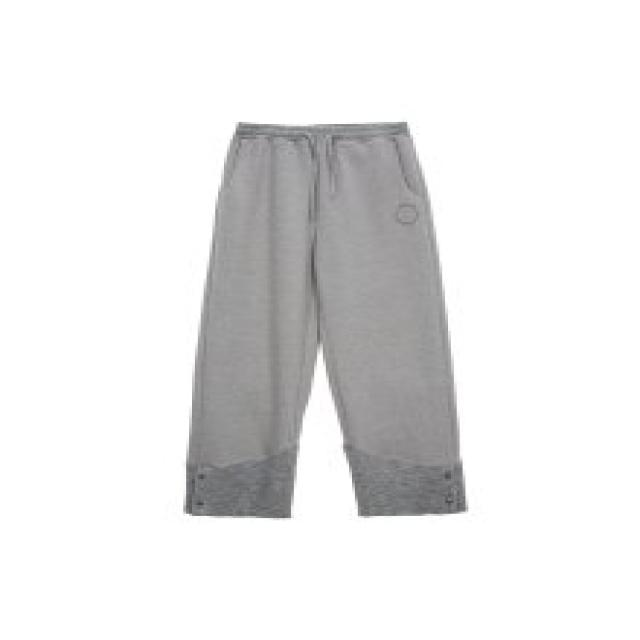long-pants: (185, 120, 473, 519)
